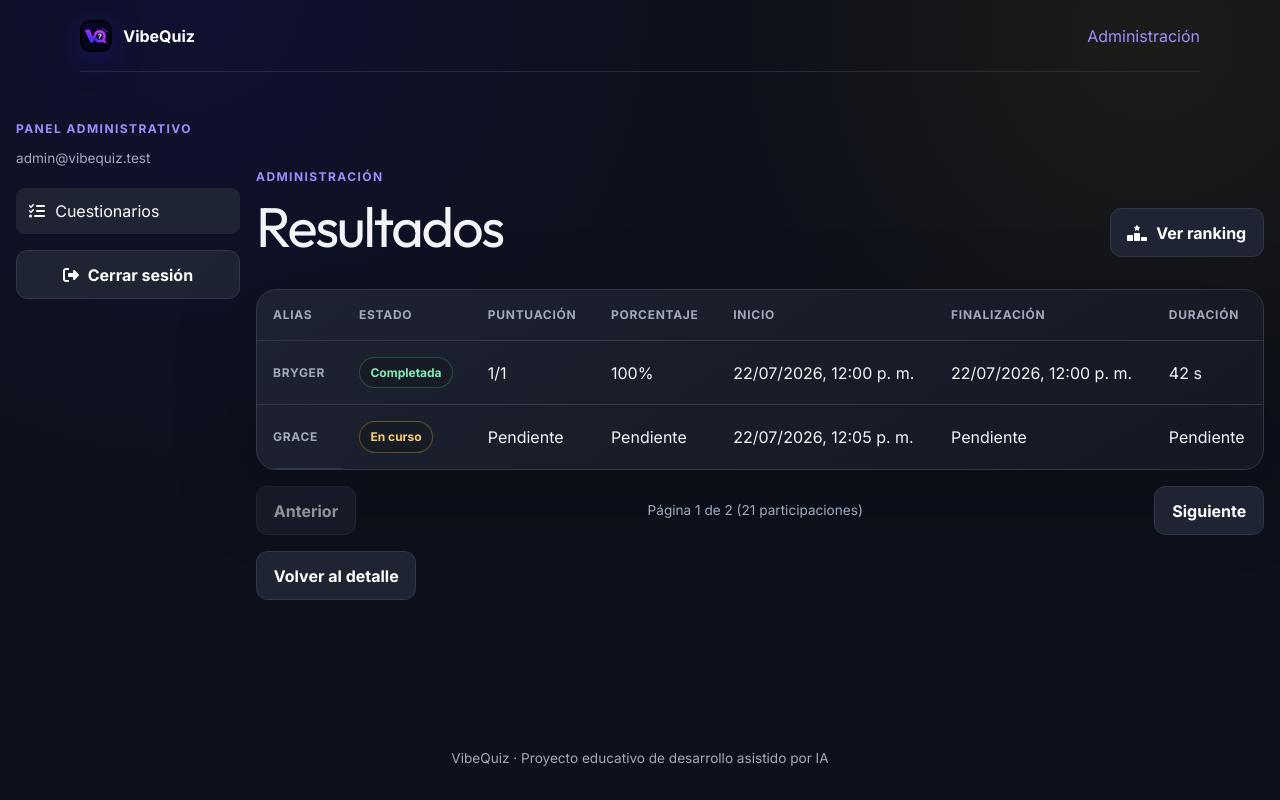
administrative results and ranking › uses backend metadata to change result pages and synchronize the URL
The image size is (1280, 800).
Click the button "Siguiente". click: (1209, 511)
box: [1154,486,1264,535]
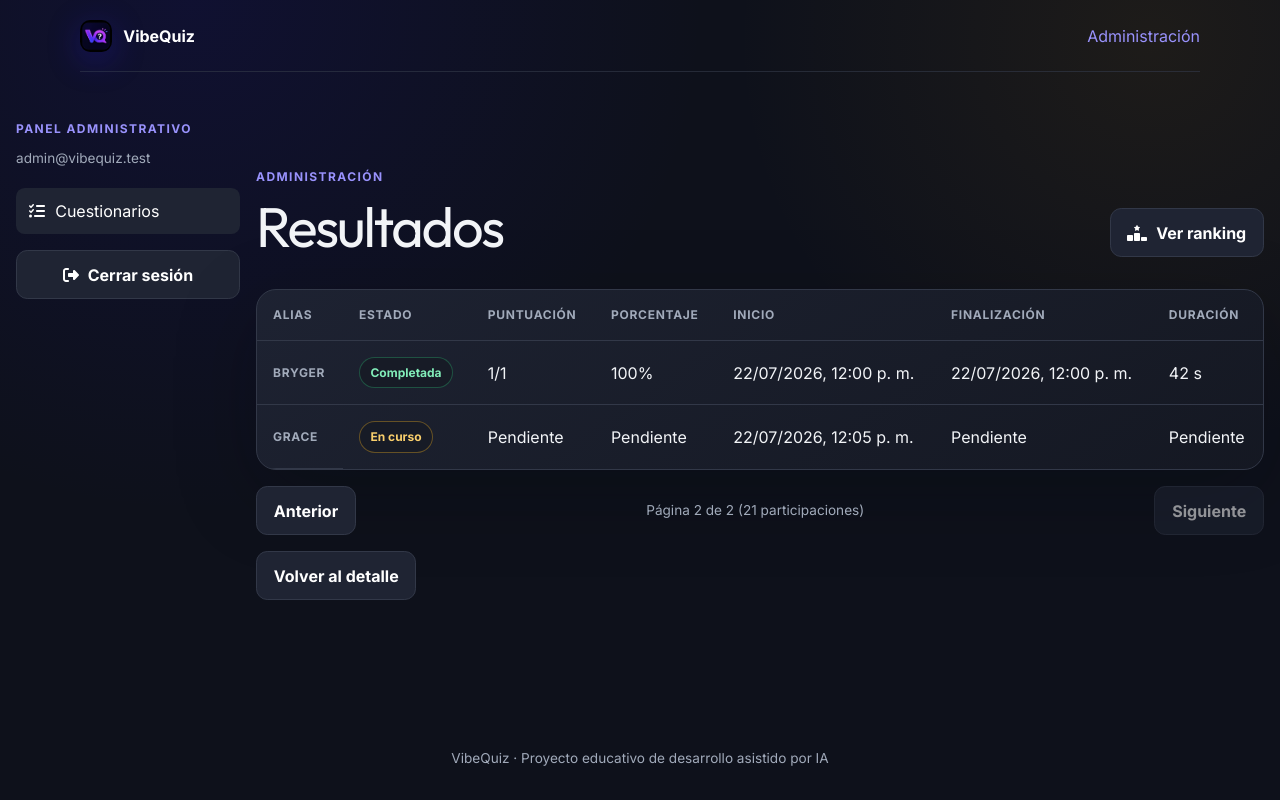
Now the text "Página 2 de 2 (21 participaciones)" is shown, box [646,500,864,521]
